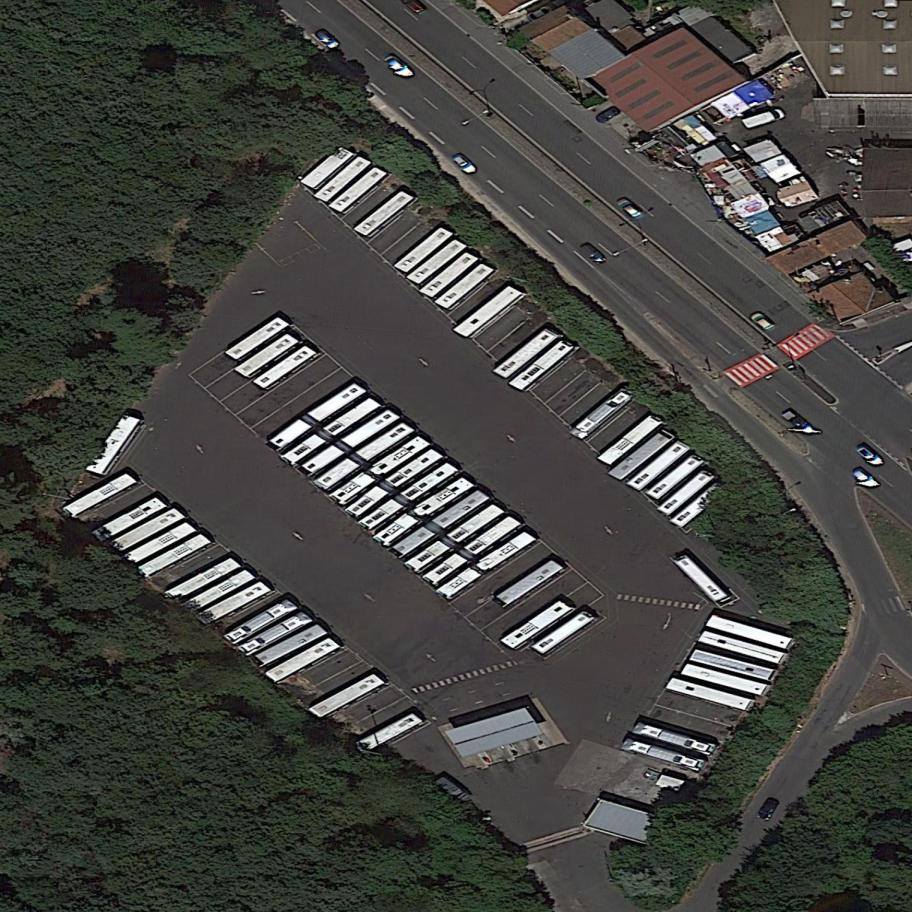large-vehicle: (264, 377, 370, 455), (295, 405, 402, 481), (341, 444, 445, 522), (434, 527, 539, 604), (356, 459, 461, 535), (421, 512, 523, 590), (371, 474, 475, 550), (403, 500, 507, 576), (311, 419, 416, 494), (327, 433, 430, 509), (280, 394, 383, 469), (388, 487, 491, 562), (499, 596, 576, 654), (452, 281, 524, 343), (567, 382, 638, 444), (490, 324, 562, 385), (234, 608, 315, 661), (305, 670, 386, 723), (596, 410, 666, 471), (506, 335, 577, 395), (263, 634, 342, 687), (89, 494, 169, 546), (222, 595, 300, 648), (249, 620, 330, 671), (108, 504, 187, 556), (607, 425, 676, 484), (163, 554, 242, 605), (194, 577, 273, 628), (84, 410, 141, 480), (626, 436, 693, 495), (493, 556, 565, 610), (416, 247, 483, 305), (134, 531, 213, 580), (121, 518, 198, 568), (180, 566, 257, 616), (62, 470, 138, 520), (433, 258, 497, 314), (354, 187, 418, 243), (668, 477, 732, 533), (671, 548, 731, 607), (223, 312, 291, 364), (643, 449, 707, 504), (313, 152, 374, 209), (393, 223, 455, 278), (353, 709, 425, 756), (531, 606, 596, 658), (329, 163, 390, 218), (655, 466, 717, 520), (621, 735, 706, 774), (234, 331, 301, 380), (632, 720, 718, 758), (698, 628, 786, 665), (704, 613, 792, 650), (253, 342, 318, 392), (407, 237, 469, 289), (666, 677, 753, 713), (691, 648, 775, 683), (681, 662, 767, 696), (302, 143, 355, 192)
small-vehicle: (778, 402, 820, 440), (379, 48, 418, 86), (738, 104, 789, 133), (849, 437, 887, 472), (573, 236, 611, 270), (447, 146, 481, 181), (613, 191, 647, 225), (849, 461, 883, 493), (747, 305, 779, 337), (313, 23, 344, 55), (593, 100, 625, 129), (755, 792, 783, 825)
